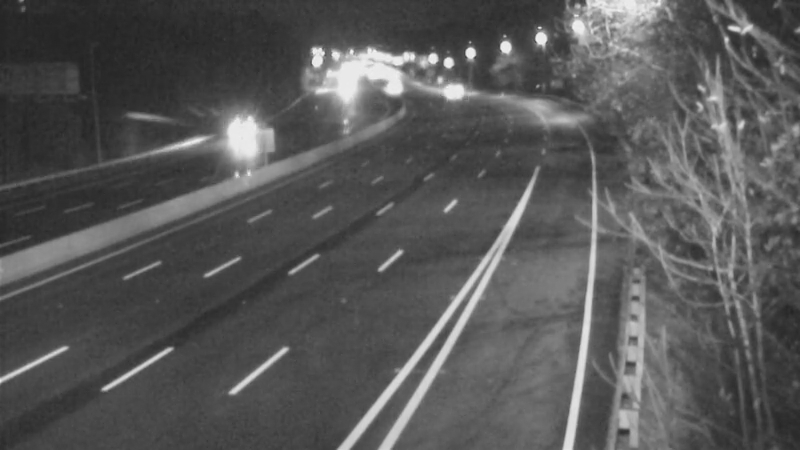vehicle: (364, 61, 414, 111), (427, 64, 477, 114), (210, 106, 260, 156)
